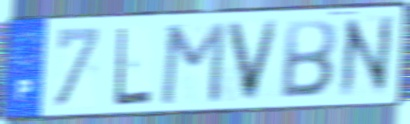7: (54, 25, 102, 111)
B: (277, 17, 339, 100)
L: (113, 24, 154, 109)
M: (157, 19, 229, 107)
N: (337, 12, 394, 102)
V: (224, 18, 283, 104)
